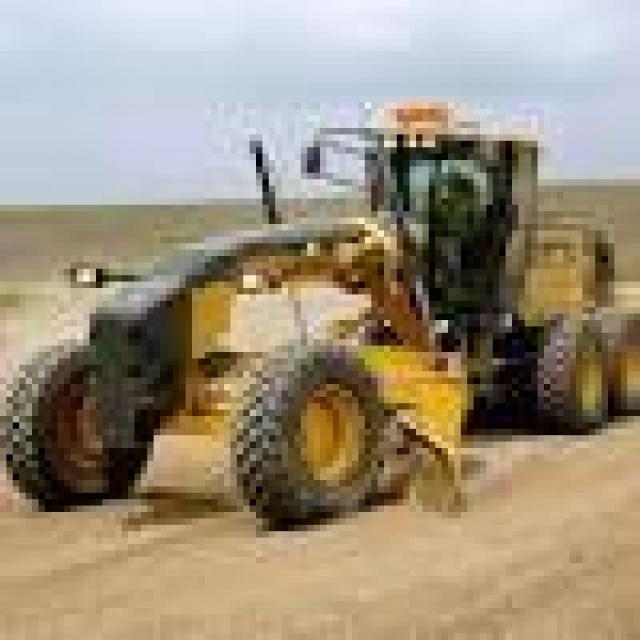Grader: (12, 96, 634, 570)
